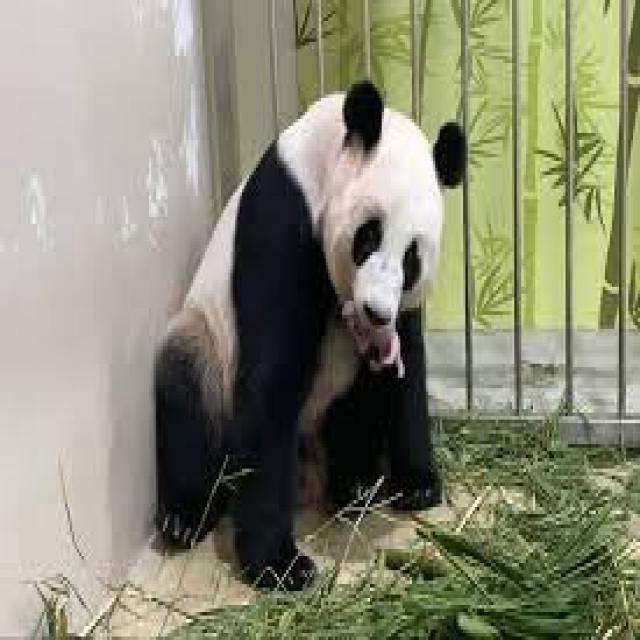Panda: (143, 72, 476, 590)
